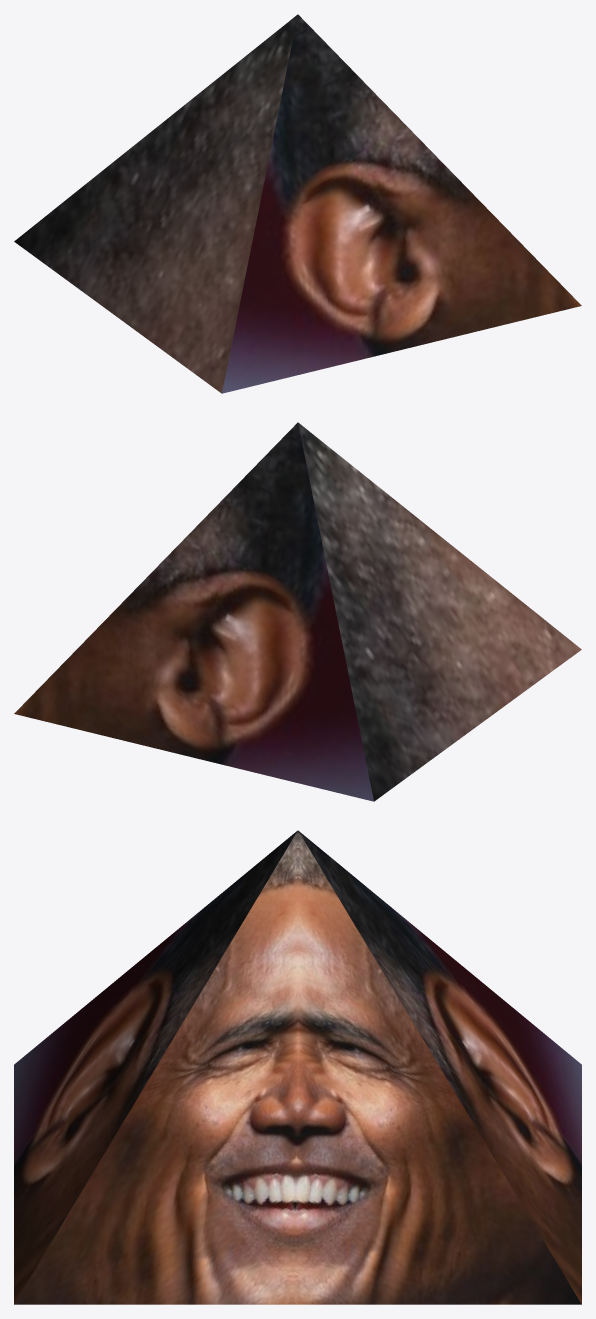
The model's file is obama.dae.
3 renders of one model, top to bottom at view 1: azimuth 30°, elevation 25°; view 2: azimuth 150°, elevation 25°; view 3: azimuth 270°, elevation 25°, orthographic. The views are drawn at different scales.
Parts seen in each view (by area): view 1: Cube; view 2: Cube; view 3: Cube.
Boxes of the visible parts, <box> form: Cube: <box>14,14,581,393</box>; Cube: <box>14,422,581,801</box>; Cube: <box>14,830,581,1304</box>.
Bounding box in the file's own units: 2 × 2 × 1.38.
1 material, 1 textured.
